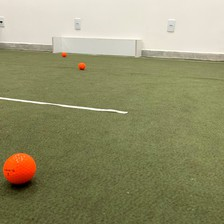ball: (1, 150, 39, 187), (75, 60, 86, 71), (59, 49, 67, 57)
goal: (49, 33, 145, 59)
